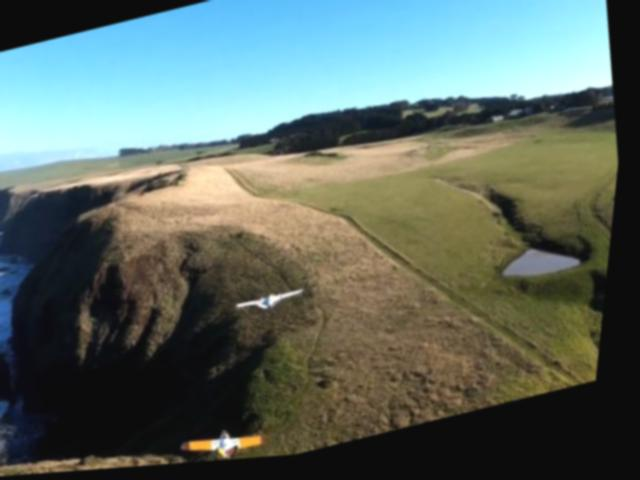uav: (185, 422, 286, 467), (240, 286, 313, 317)
